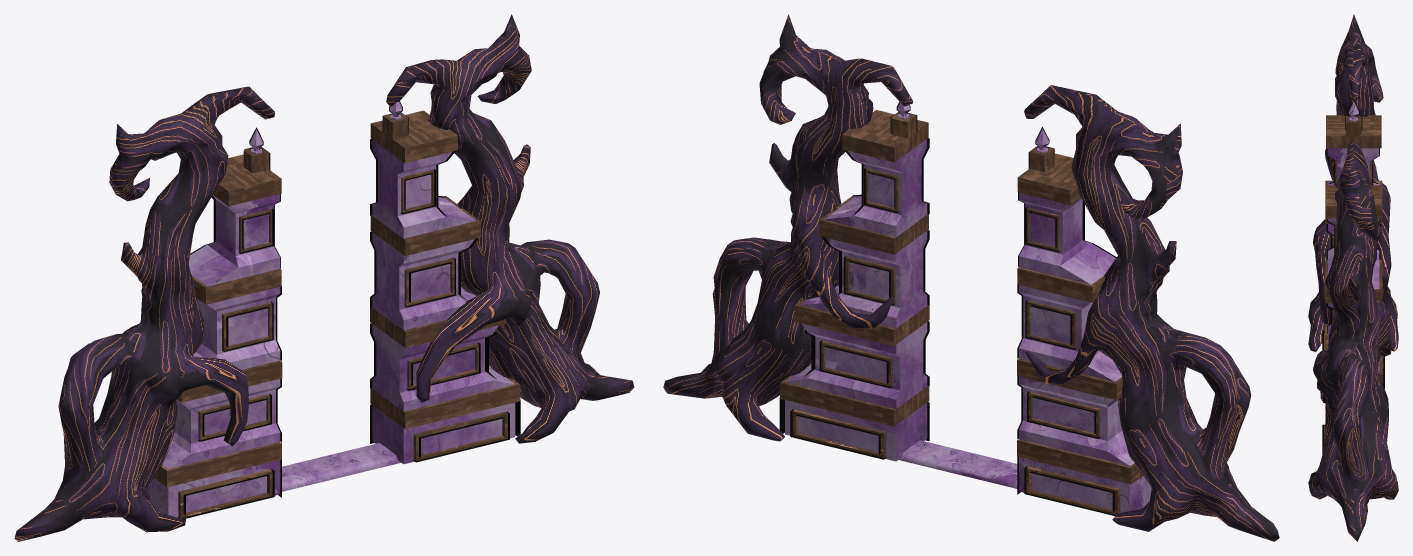
Rendered from s0_Str_Skydoor_01__1__01.glb.
The picture shows the model from 3 angles, left to right: view 1: azimuth 30°, elevation 25°; view 2: azimuth 150°, elevation 25°; view 3: azimuth 270°, elevation 25°; orthographic projection. The views are drawn at different scales.
Visible parts, largest first — view 1: node_Str_Skydoor_01 (1); view 2: node_Str_Skydoor_01 (1); view 3: node_Str_Skydoor_01 (1).
Part boxes in pixels (x1,y1,x2,y2): node_Str_Skydoor_01 (1): [14, 14, 634, 541]; node_Str_Skydoor_01 (1): [663, 14, 1279, 541]; node_Str_Skydoor_01 (1): [1308, 14, 1398, 541].
Size of what is drawn, in the model's own units: 15.52 by 9.85 by 2.41.
Materials: 4 (3 with a texture image).
